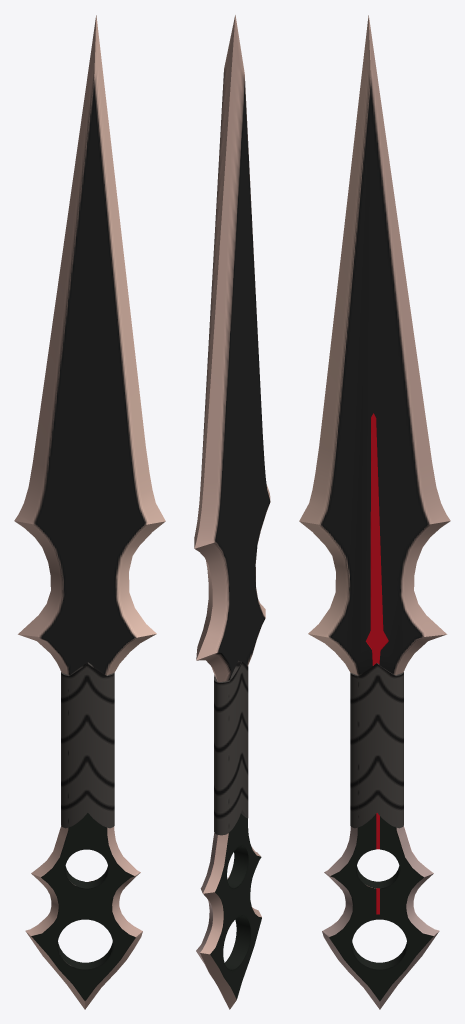
File: dagger.glb
The picture shows the model from 3 angles, left to right: view 1: azimuth 90°, elevation 25°; view 2: azimuth 150°, elevation 25°; view 3: azimuth 270°, elevation 25°; orthographic projection.
Visible parts, largest first — view 1: Circle; view 2: Circle; view 3: Circle.
Boxes of the visible parts, box(x1,y1,x2,y2) form: Circle: box(14, 15, 165, 1009); Circle: box(194, 15, 270, 1009); Circle: box(299, 15, 450, 1009).
Bounding box in the file's own units: 0.1487 × 6.44 × 0.89.
Materials: 1 (1 with a texture image).
